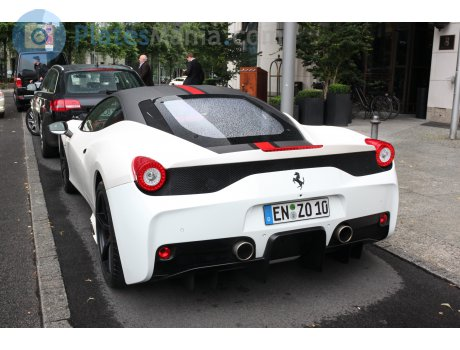License Plates: (273, 200, 330, 213)
